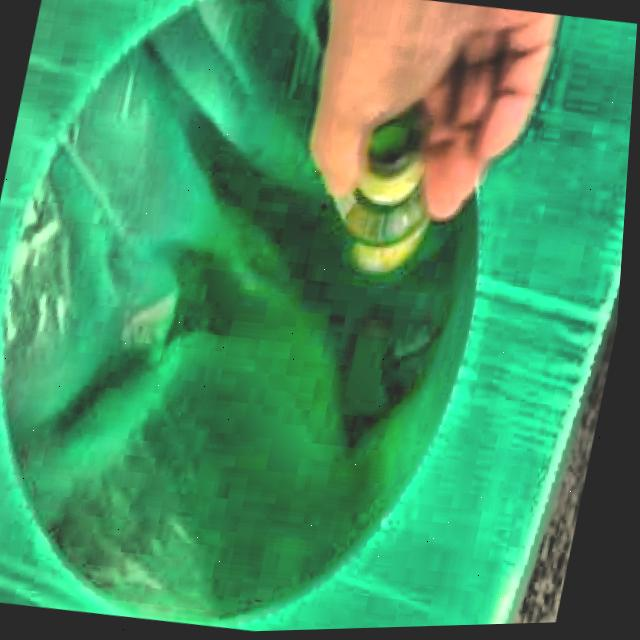glass: (342, 104, 435, 276)
